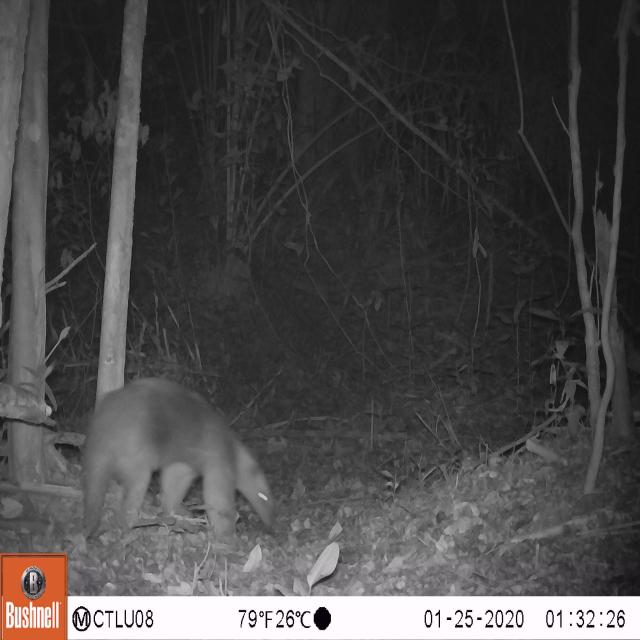Southern Tamandua: (64, 368, 288, 565)
